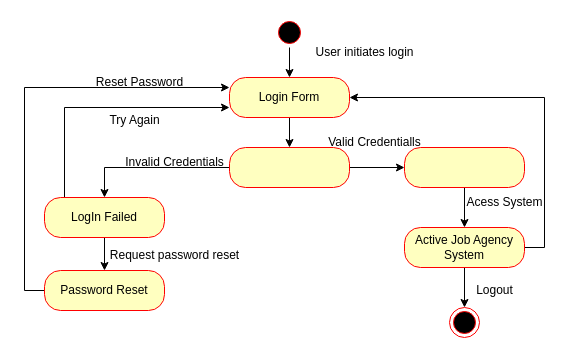
Image size: 572x355. Some labels were removed from this diagram. The shapes that lost their labels are listed below. From the top down, each one's centre as x and y in pixels, then its label:
(289,167): Validating Credentials
(464,167): Logged In State
